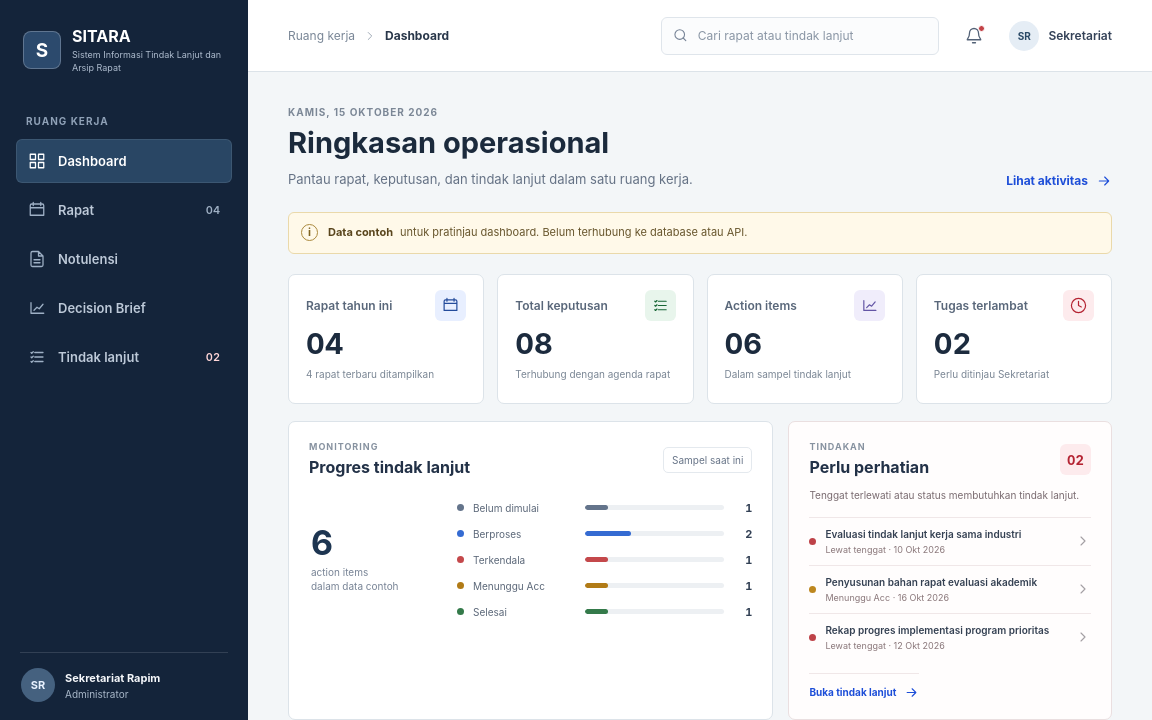
SITARA dashboard › guards in-app and browser navigation while a minutes draft is unsaved
Click the link "Notulensi" at (73, 259), box x1=28 y1=250 x2=118 y2=268
(page scrolled)
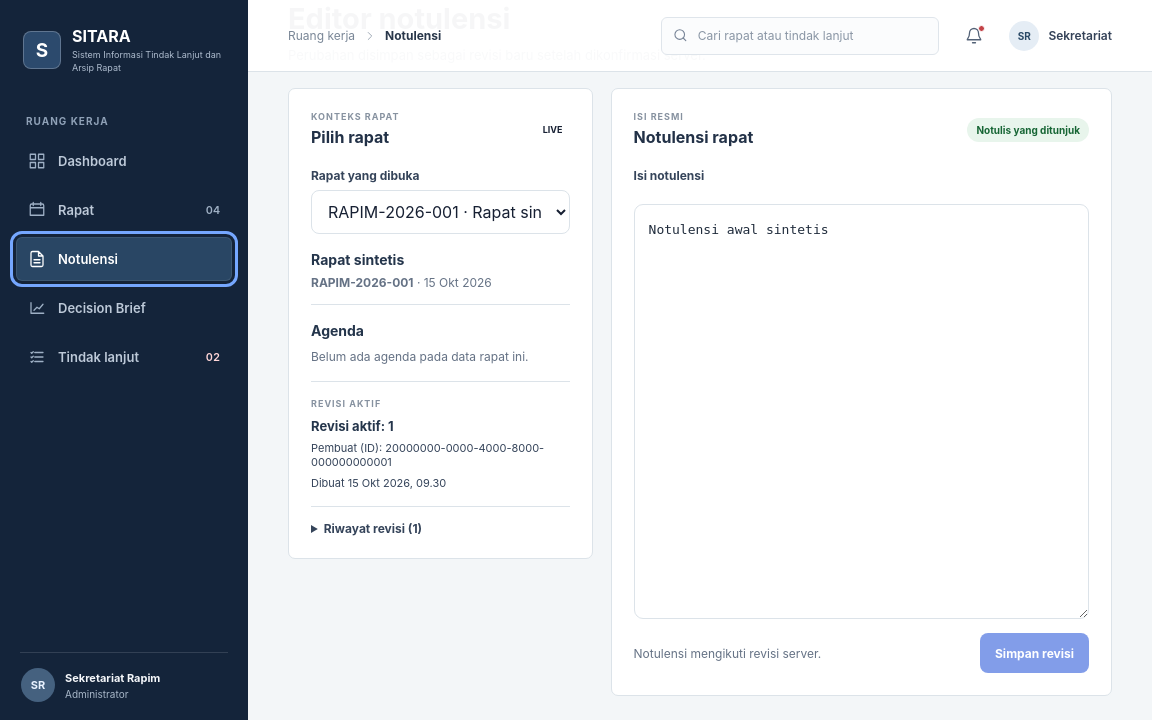
Type " draf belum tersimpan" into the text box labelled "Isi notulensi" at (861, 411), box x1=634 y1=204 x2=1089 y2=619
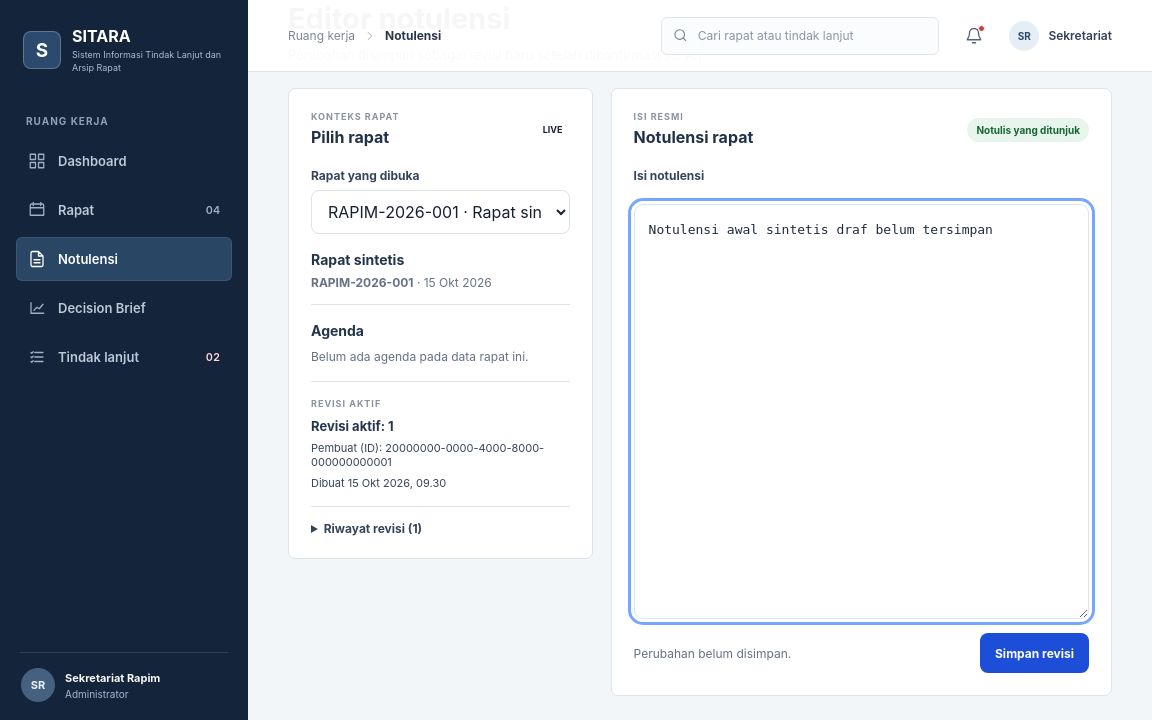
Click the link "Dashboard" at (77, 161), box x1=28 y1=152 x2=127 y2=170
(page scrolled)
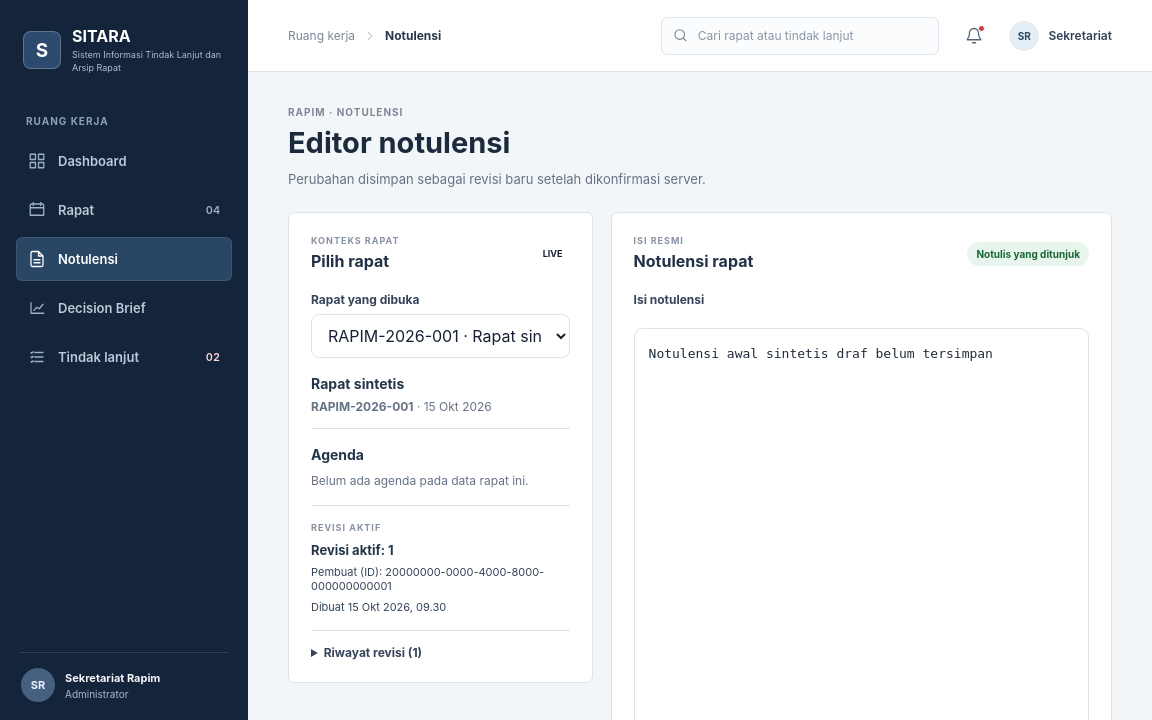
Click the link "Dashboard" at (77, 161), box x1=28 y1=152 x2=127 y2=170
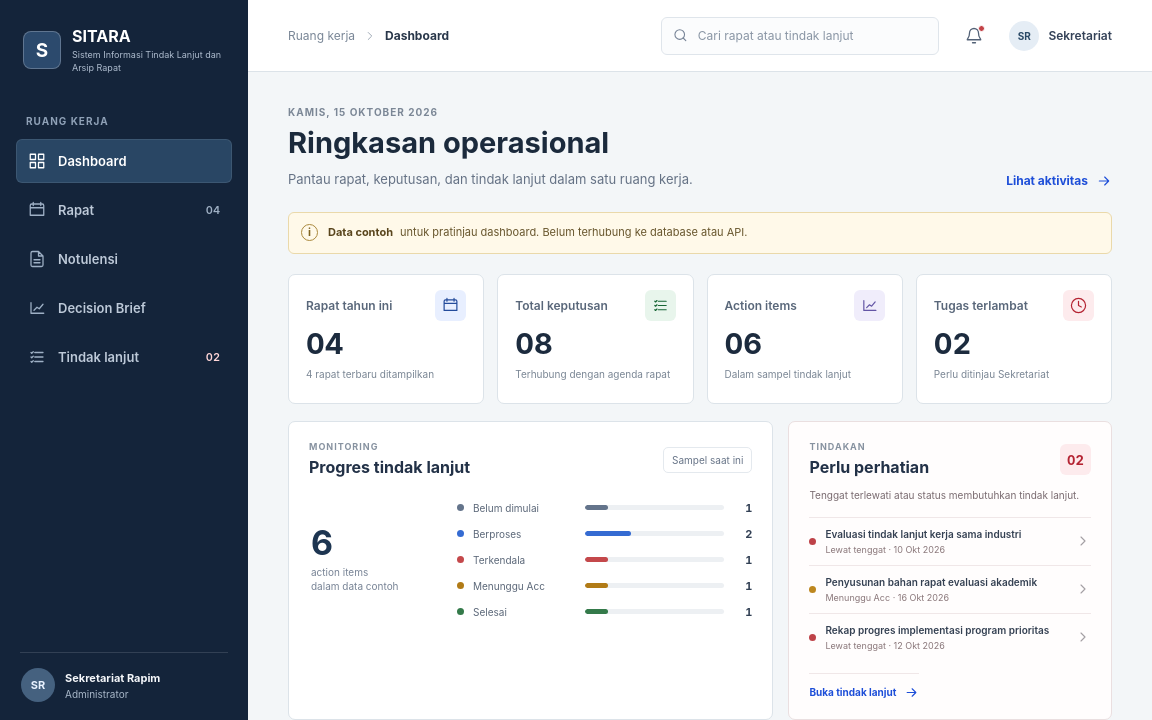
expect the label labelled "Isi notulensi" is gone: met
